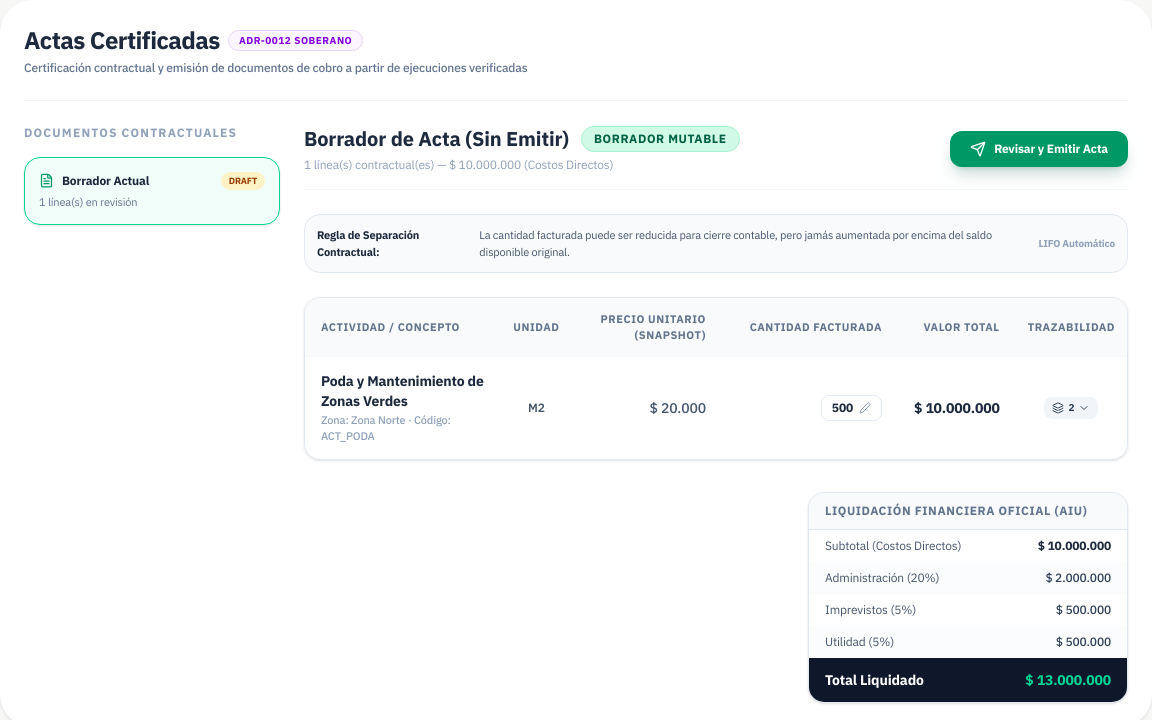
it: PO-05: CertifiedActasModule Integration Suite (AC-01 -> AC-14) › Test 3 [AC-03]: Las líneas del borrador exponen trazabilidad hacia sus fuentes físicas de ejecución
Expected: the text "2" is shown, [1068, 401, 1074, 415]
Step 1. Click the button titled "Ver ejecuciones físicas de origen" → (1071, 408), box [1044, 397, 1098, 419]
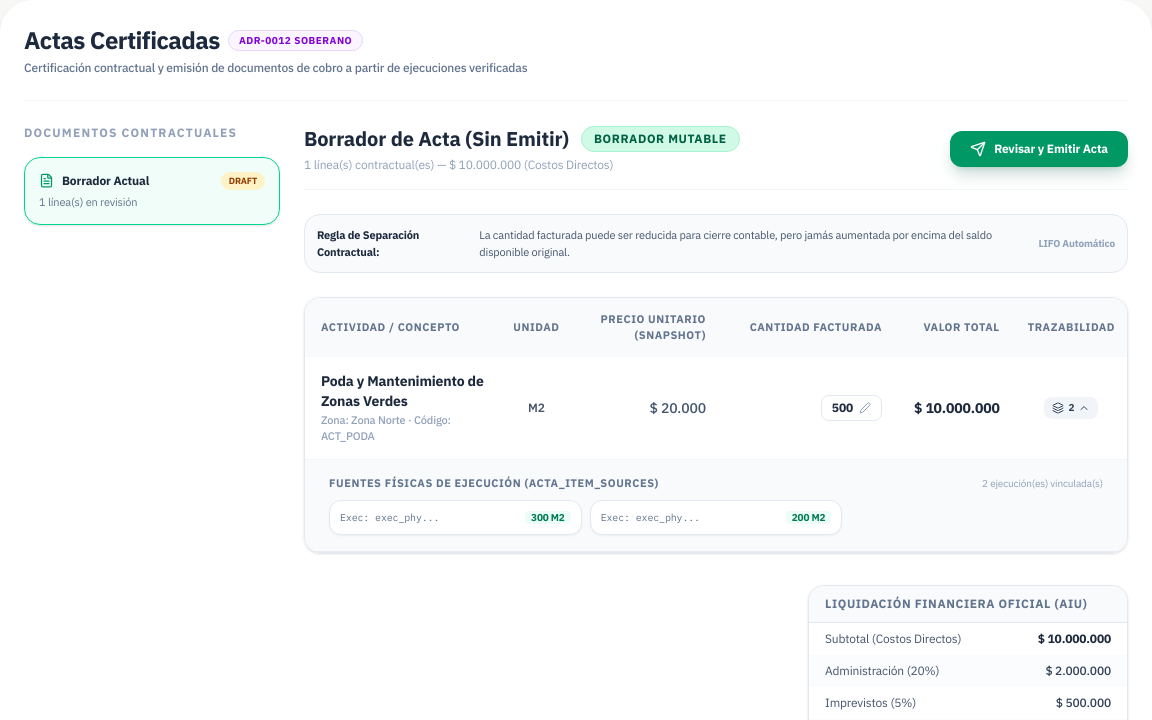
Expected: the text "Fuentes Físicas de Ejecución (acta_item_sources)" is shown, [329, 476, 659, 492]
Expected: the text "Exec: exec_phy..." is shown 2 times, [340, 510, 439, 524]; [601, 510, 700, 524]
Expected: the text "300 M2" is shown, [525, 510, 571, 524]
